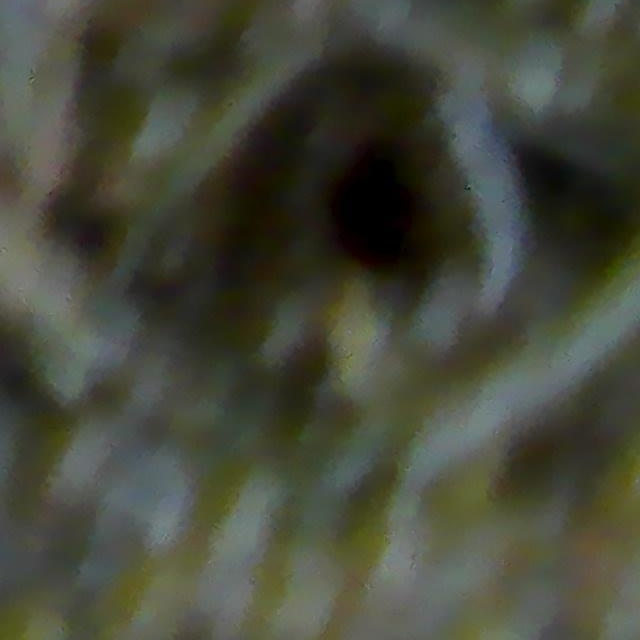SeaGrape: (499, 34, 571, 116)
